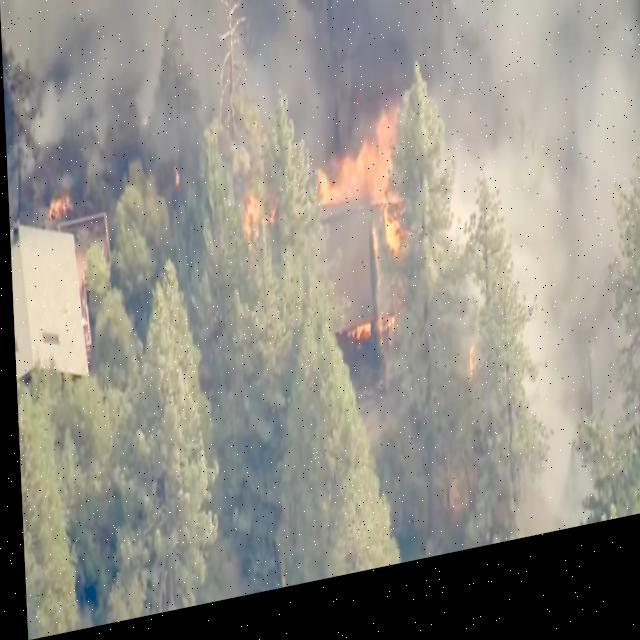Fire: (294, 108, 427, 380), (239, 196, 261, 266)
